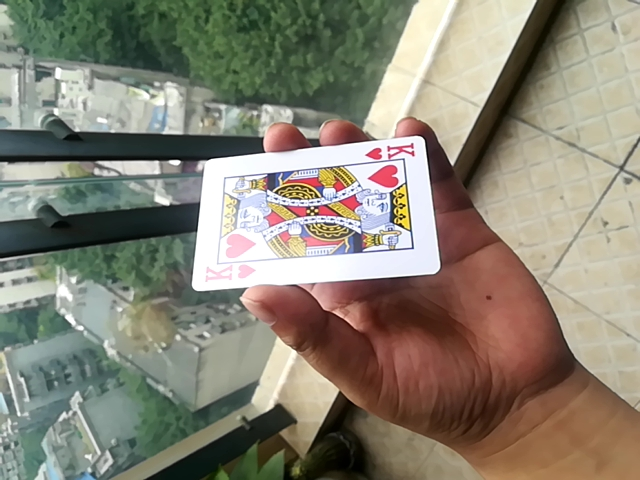hx k: (189, 132, 435, 290)
